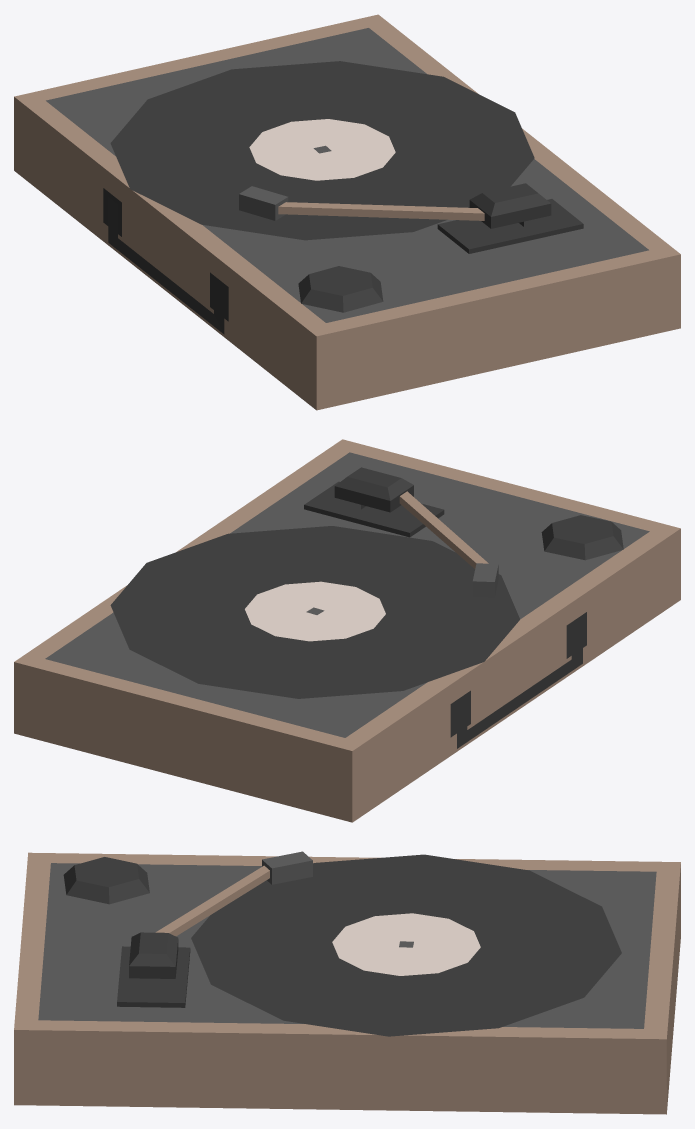
Rendered from Vinyl_players_1.fbx.
3 renders of one model, top to bottom at view 1: azimuth 30°, elevation 25°; view 2: azimuth 150°, elevation 25°; view 3: azimuth 270°, elevation 25°, orthographic. The views are drawn at different scales.
Visible parts, largest first — view 1: Vinyl_players_1; view 2: Vinyl_players_1; view 3: Vinyl_players_1.
Boxes of the visible parts, x1=… form: Vinyl_players_1: x1=14, y1=14, x2=680, y2=410; Vinyl_players_1: x1=14, y1=439, x2=680, y2=822; Vinyl_players_1: x1=14, y1=851, x2=680, y2=1114.
Size of the model in its own units: 27.33 by 41.26 by 7.61.
